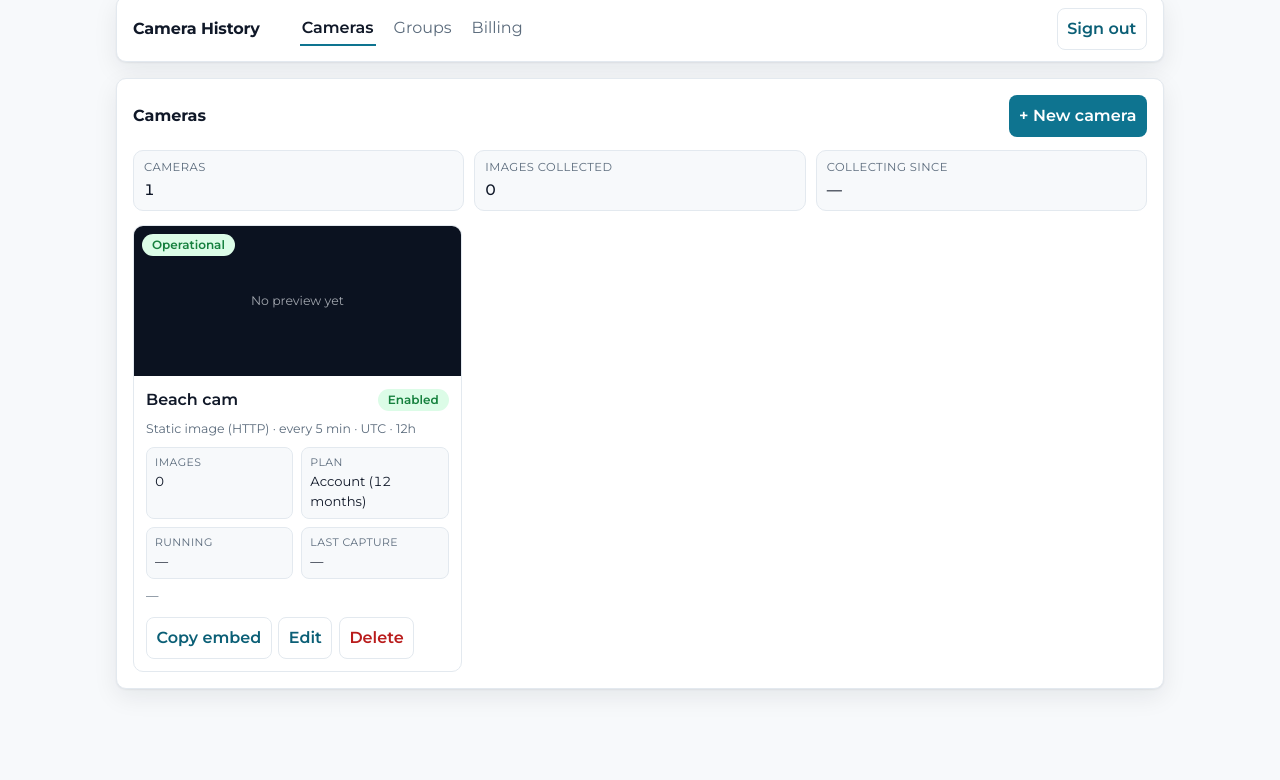
it: App camera CRUD › prefills showNight when editing a camera
Expected: the heading "Beach cam" is shown, x1=146 y1=388 x2=238 y2=412
Step 1. Click the button with test id "edit-cam-1" → (305, 638), box x1=278 y1=617 x2=332 y2=659
(page scrolled)
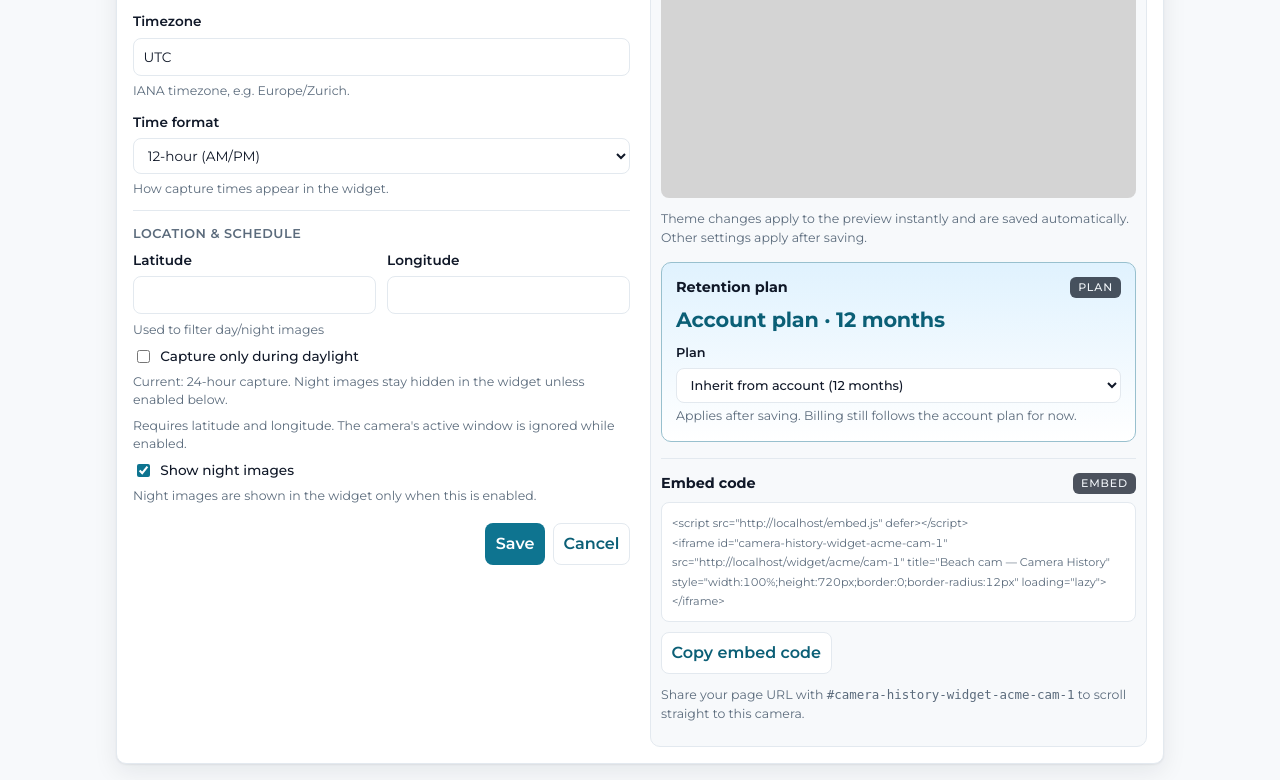
Expected: the checkbox with test id "form-show-night" is checked, x1=137 y1=464 x2=150 y2=477
